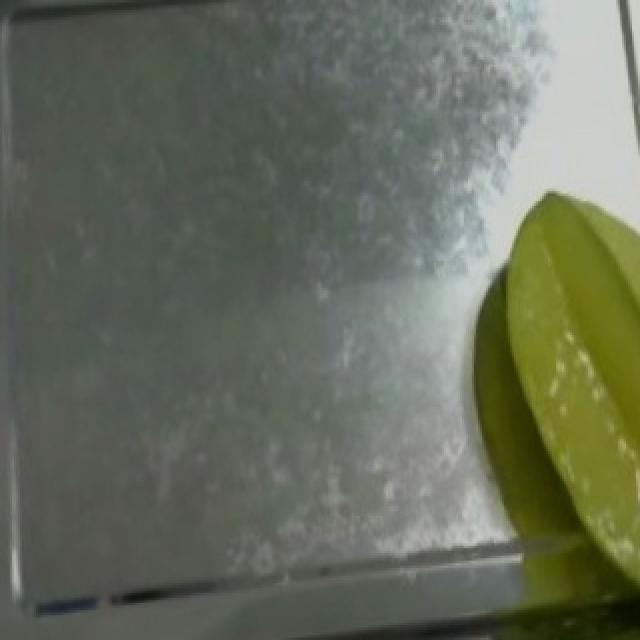fruit: (456, 171, 640, 566)
